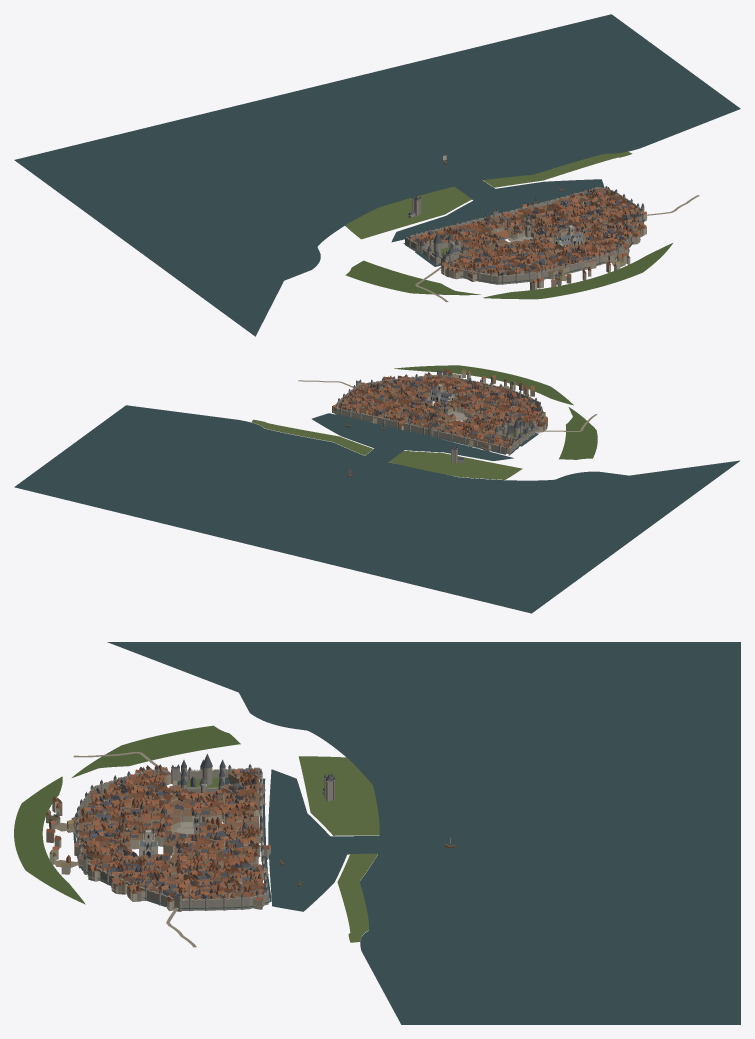
Rendered from calais.glb.
The picture shows the model from 3 angles, top to bottom: view 1: azimuth 30°, elevation 25°; view 2: azimuth 150°, elevation 25°; view 3: azimuth 270°, elevation 25°; orthographic projection. The views are drawn at different scales.
Parts seen in each view (by area): view 1: ground, houses, landmarks, blocks; view 2: ground, houses, landmarks, blocks; view 3: ground, houses, landmarks, blocks.
Boxes of the visible parts, left/top/right/bottom form: ground: left=14, top=14, right=740, bottom=336; houses: left=411, top=187, right=646, bottom=290; landmarks: left=403, top=155, right=644, bottom=284; blocks: left=412, top=190, right=645, bottom=281; ground: left=14, top=365, right=740, bottom=613; houses: left=332, top=368, right=547, bottom=453; landmarks: left=334, top=370, right=543, bottom=476; blocks: left=333, top=376, right=546, bottom=453; ground: left=14, top=642, right=740, bottom=1024; houses: left=46, top=764, right=270, bottom=911; landmarks: left=73, top=754, right=455, bottom=911; blocks: left=71, top=768, right=267, bottom=910.
Bounding box in the file's own units: 16.69 × 0.6694 × 13.4.
